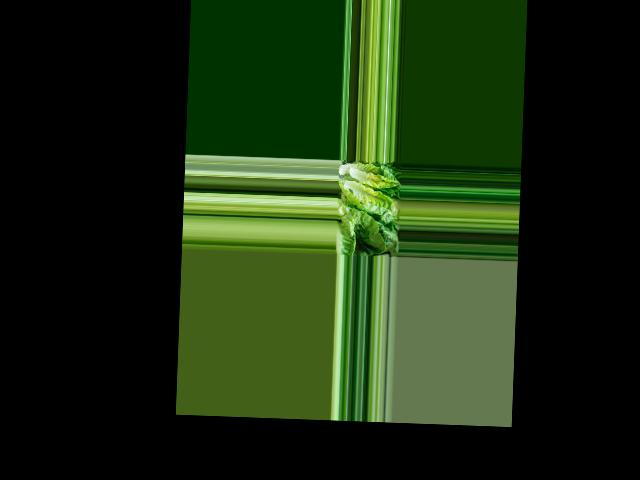lettuce: (335, 161, 397, 224)
